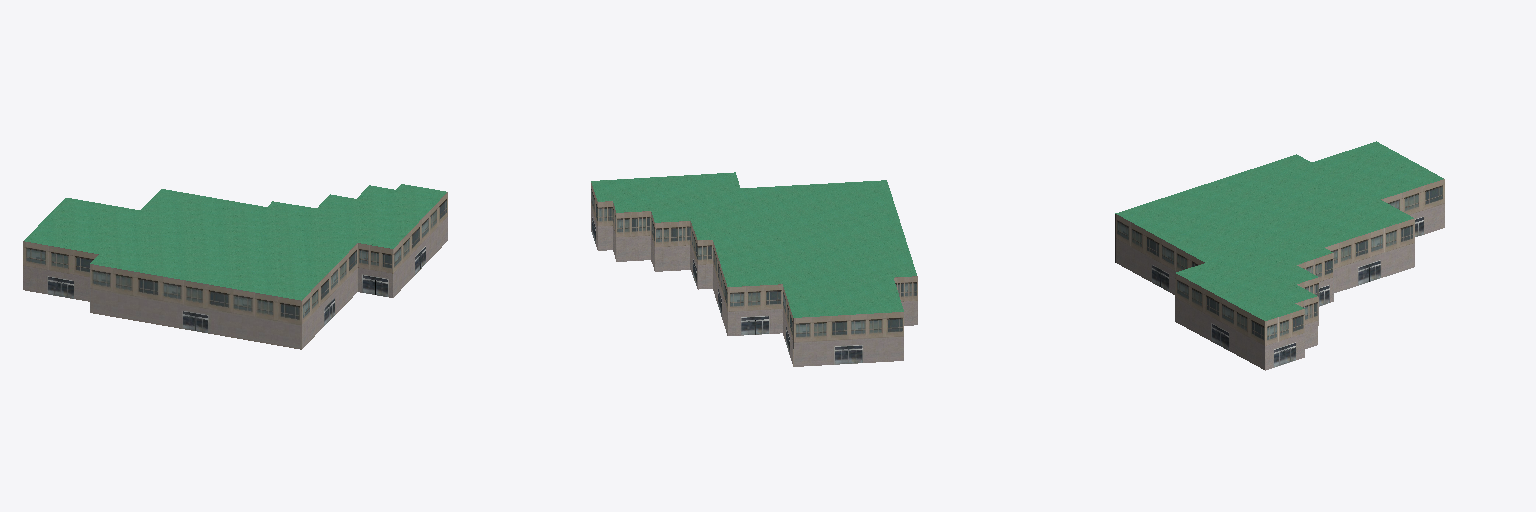
The picture shows the model from 3 angles: view 1: azimuth 30°, elevation 25°; view 2: azimuth 150°, elevation 25°; view 3: azimuth 270°, elevation 25°; orthographic projection.
Visible parts, largest first — view 1: BuildingMaster_[number redacted]_1, BuildingMaster_[number redacted]_0; view 2: BuildingMaster_[number redacted]_1, BuildingMaster_[number redacted]_0; view 3: BuildingMaster_[number redacted]_1, BuildingMaster_[number redacted]_0.
Part boxes in pixels (bbox=[...]): BuildingMaster_[number redacted]_1: bbox=[24, 184, 446, 300]; BuildingMaster_[number redacted]_0: bbox=[23, 192, 447, 349]; BuildingMaster_[number redacted]_1: bbox=[591, 172, 916, 317]; BuildingMaster_[number redacted]_0: bbox=[591, 183, 917, 366]; BuildingMaster_[number redacted]_1: bbox=[1115, 141, 1443, 320]; BuildingMaster_[number redacted]_0: bbox=[1115, 179, 1444, 370].
Size of the model in its own units: 55.05 by 7 by 42.53.
2 materials, 2 textured.